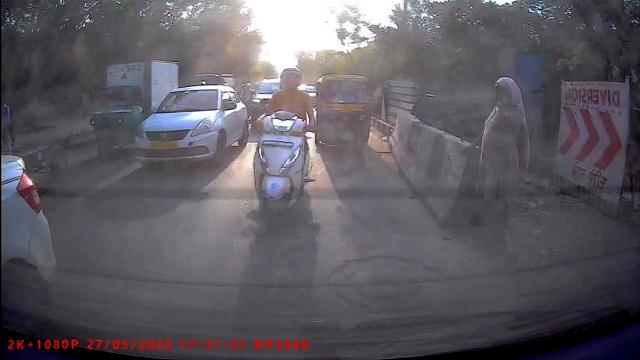motorcycle_with_helmet: (251, 67, 317, 219)
